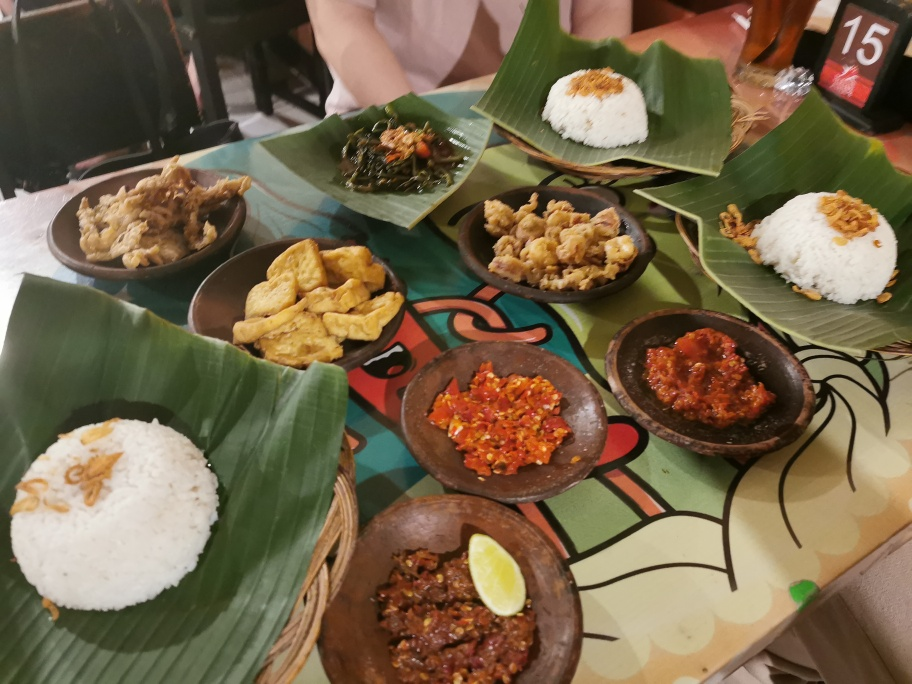nasi putih: (8, 409, 219, 613), (752, 184, 898, 308), (546, 62, 650, 149)
